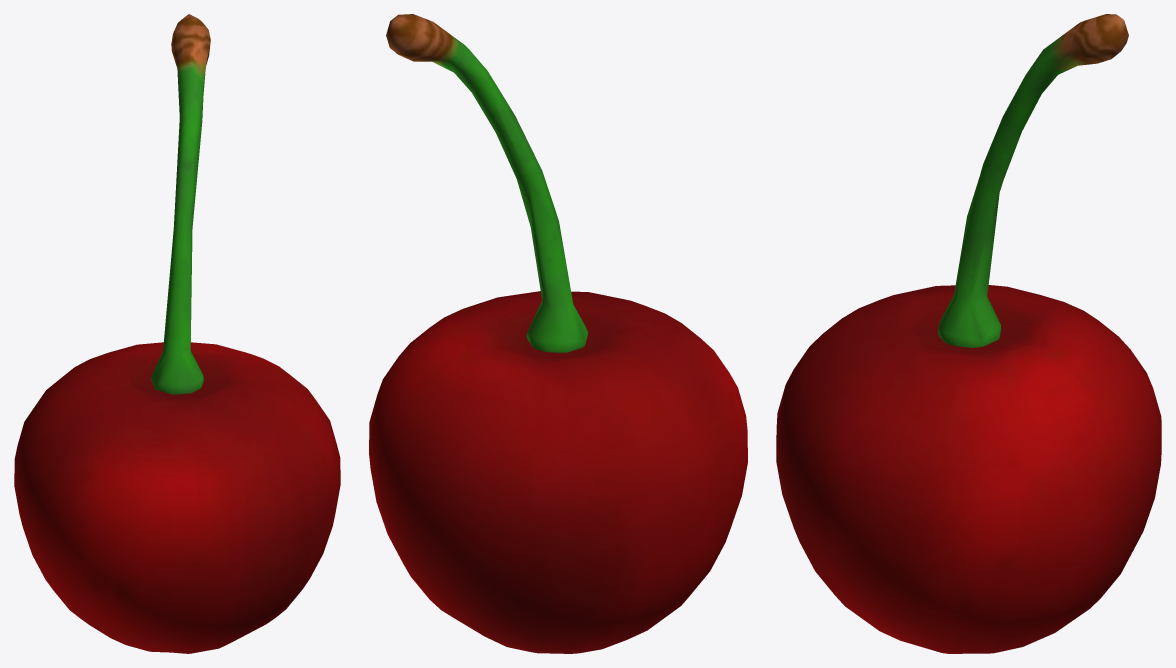
Rendered from cherry.glb.
3 renders of one model, left to right at view 1: azimuth 30°, elevation 25°; view 2: azimuth 150°, elevation 25°; view 3: azimuth 270°, elevation 25°, orthographic. The views are drawn at different scales.
Parts seen in each view (by area): view 1: Object_3; view 2: Object_3; view 3: Object_3.
Part boxes in pixels (x1,y1,x2,y2): Object_3: [14, 14, 340, 653]; Object_3: [369, 14, 747, 653]; Object_3: [776, 14, 1161, 653].
Size of the model in its own units: 0.0105 by 0.0197 by 0.0105.
Materials: 1 (1 with a texture image).
